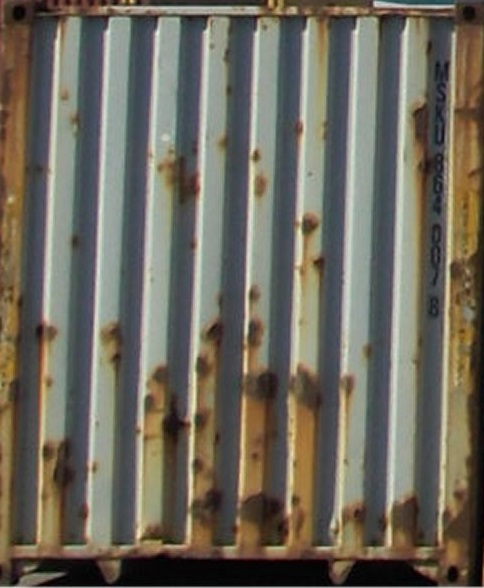container_no_door: (1, 1, 470, 588)
